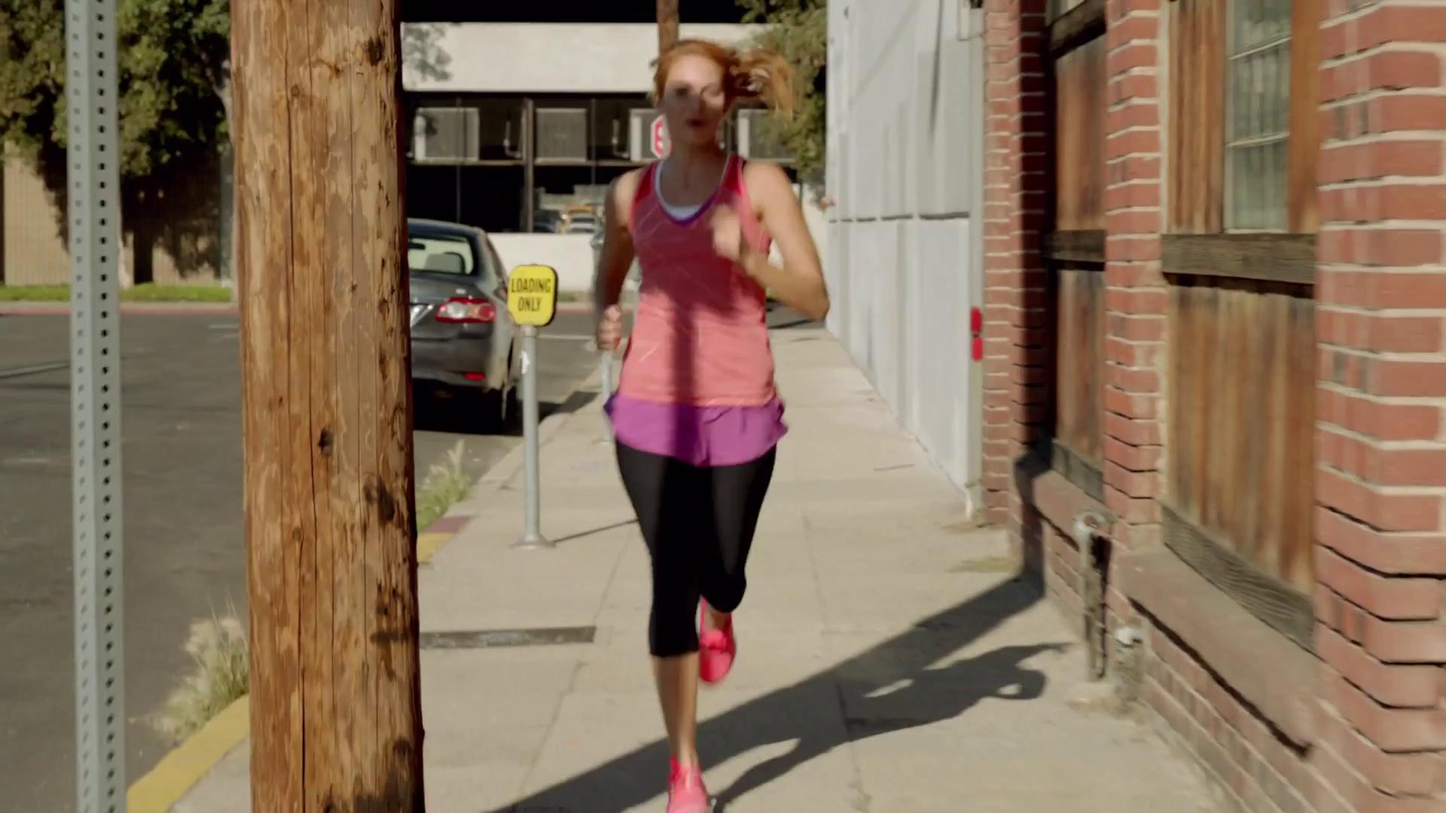victim: (589, 38, 835, 813)
